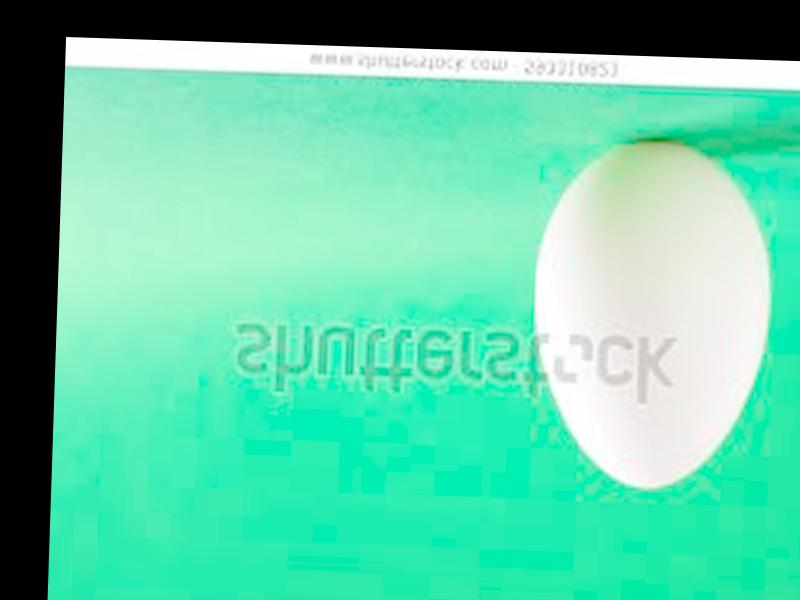Eggs: (529, 131, 777, 490)
